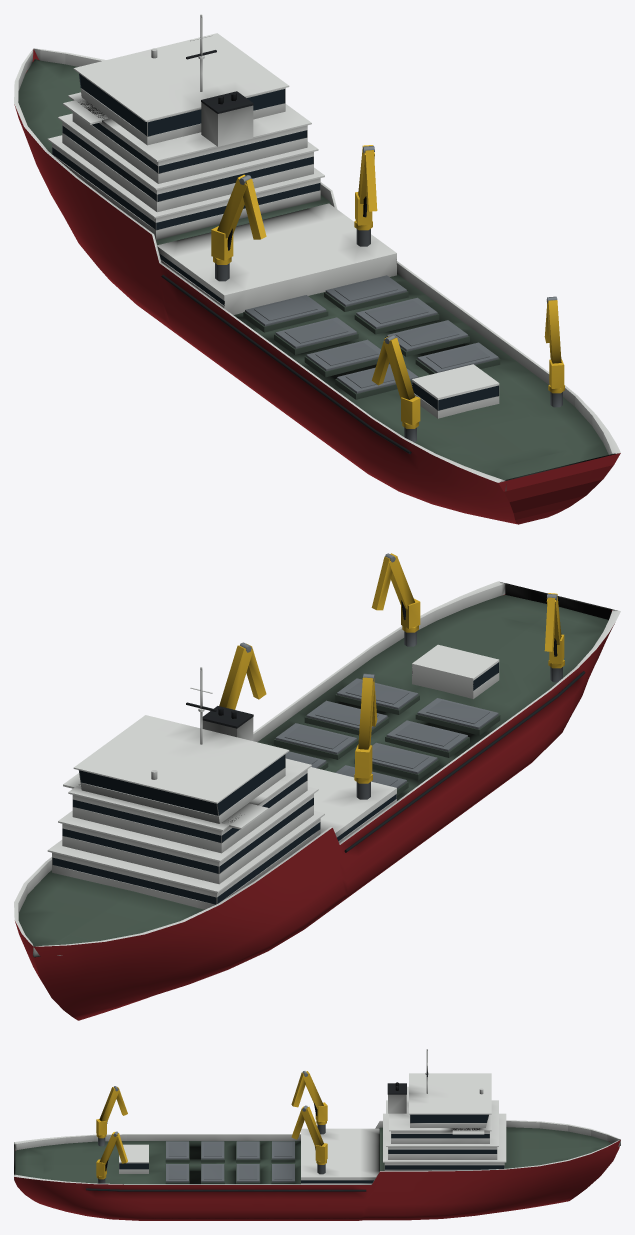
Rendered from wellboat_large_LOD1.glb.
3 views of the same model, one above another, from view 1: azimuth 30°, elevation 25°; view 2: azimuth 150°, elevation 25°; view 3: azimuth 270°, elevation 25° (orthographic). The views are drawn at different scales.
Parts seen in each view (by area): view 1: Superstructure, Hull, Deck, Machinery, Windows, Crane, Rubber; view 2: Superstructure, Hull, Deck, Machinery, Windows, Crane, Rubber; view 3: Hull, Superstructure, Deck, Machinery, Crane, Windows, Rubber.
Boxes of the visible parts, x1,y1,x2,y2 form: Superstructure: [14, 14, 620, 491]; Hull: [14, 49, 620, 524]; Deck: [18, 59, 608, 480]; Machinery: [215, 145, 562, 442]; Windows: [52, 73, 498, 410]; Crane: [211, 145, 564, 428]; Rubber: [161, 50, 411, 454]; Superstructure: [14, 581, 620, 957]; Hull: [15, 594, 614, 1020]; Deck: [18, 595, 608, 956]; Machinery: [240, 553, 562, 799]; Windows: [52, 662, 498, 904]; Crane: [219, 553, 564, 783]; Rubber: [186, 600, 585, 852]; Hull: [14, 1140, 620, 1220]; Superstructure: [14, 1049, 620, 1184]; Deck: [15, 1127, 620, 1184]; Machinery: [98, 1071, 325, 1183]; Crane: [96, 1071, 327, 1179]; Windows: [119, 1114, 504, 1183]; Rubber: [86, 1072, 427, 1191].
Size of the model in its own units: 23.7 by 32.04 by 116.
